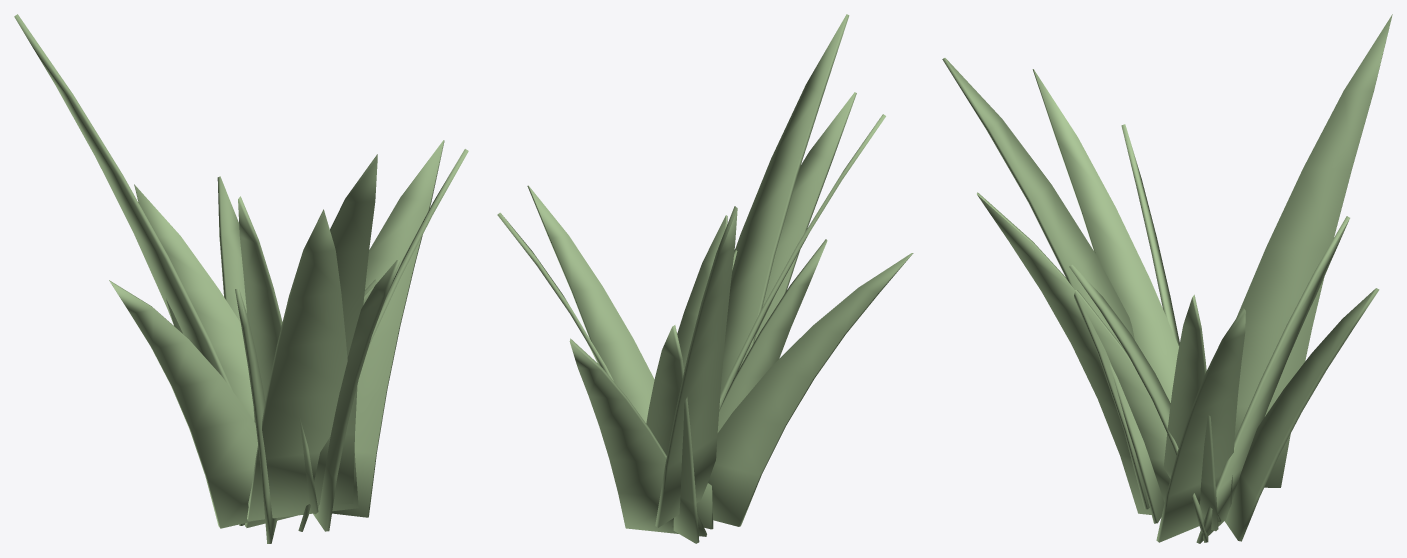
File: agave_1.glb
The picture shows the model from 3 angles, left to right: view 1: azimuth 30°, elevation 25°; view 2: azimuth 150°, elevation 25°; view 3: azimuth 270°, elevation 25°; orthographic projection. The views are drawn at different scales.
Visible parts, largest first — view 1: agave; view 2: agave; view 3: agave.
Part boxes in pixels (left/top/right/bottom): agave: left=14, top=14, right=468, bottom=543; agave: left=497, top=14, right=913, bottom=543; agave: left=942, top=14, right=1392, bottom=543.
Size of the model in its own units: 0.6178 by 0.7101 by 0.6521.
